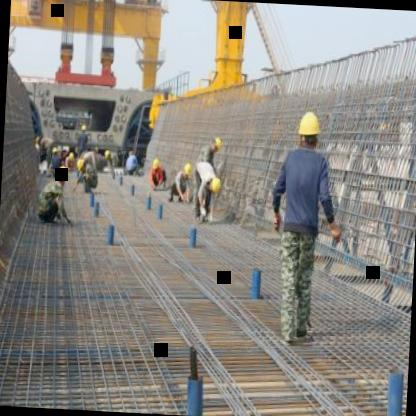helmet: (295, 107, 323, 152), (52, 160, 69, 186), (178, 160, 196, 182), (206, 174, 224, 195), (209, 134, 226, 154), (72, 153, 88, 174), (152, 154, 160, 172)
